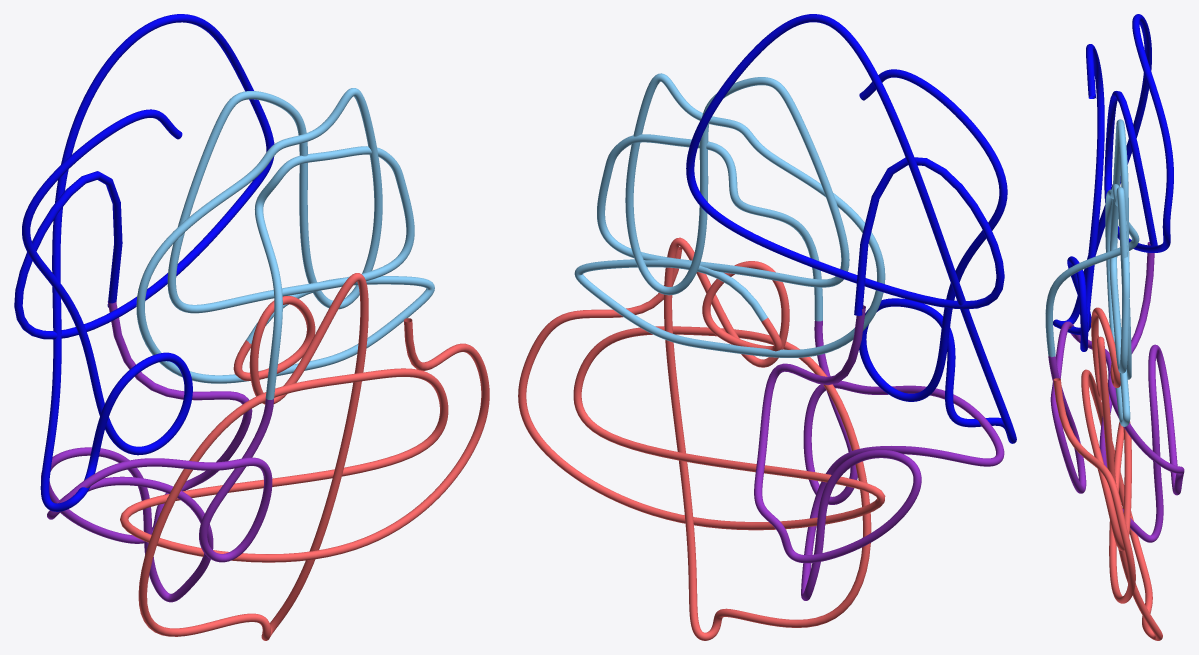
The model's file is ProteinOld.fbx.
3 views of the same model, side by side, from view 1: azimuth 30°, elevation 25°; view 2: azimuth 150°, elevation 25°; view 3: azimuth 270°, elevation 25° (orthographic). The views are drawn at different scales.
Parts seen in each view (by area): view 1: Protein Molecule; view 2: Protein Molecule; view 3: Protein Molecule.
Boxes of the visible parts, box(x1,y1,x2,y2) form: Protein Molecule: box(14, 14, 489, 640); Protein Molecule: box(518, 14, 1016, 640); Protein Molecule: box(1045, 14, 1184, 640).
Bounding box in the file's own units: 397 × 514 × 113.
